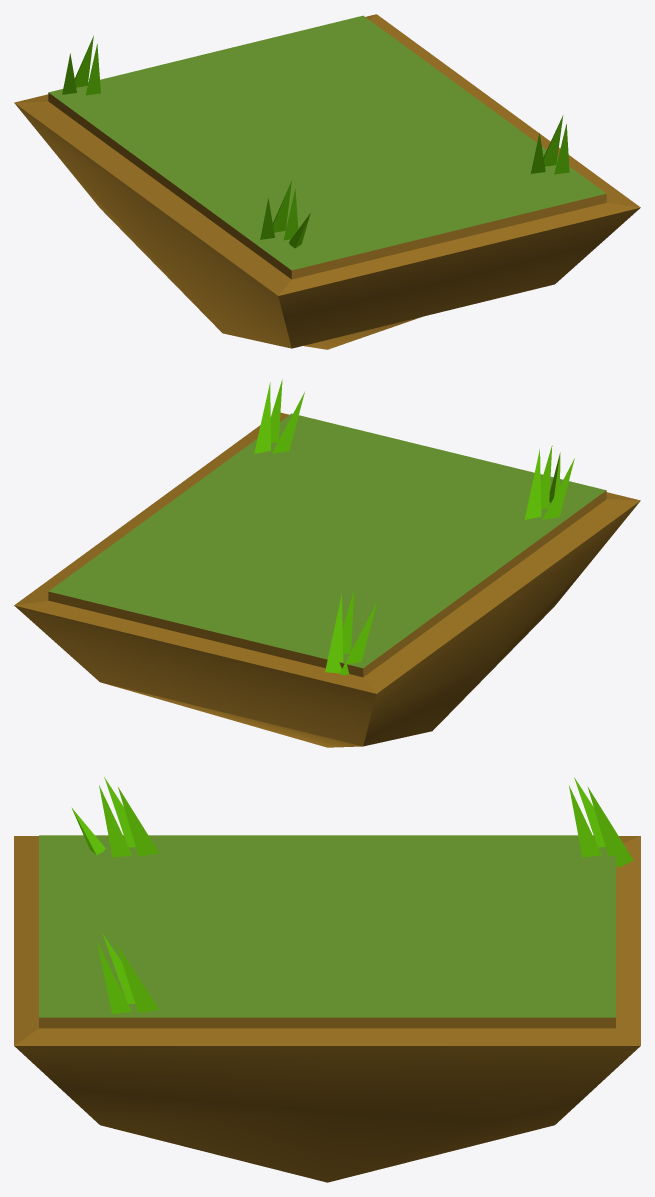
File: TINYNORMALPLATFORM.fbx
The picture shows the model from 3 angles, top to bottom: view 1: azimuth 30°, elevation 25°; view 2: azimuth 150°, elevation 25°; view 3: azimuth 270°, elevation 25°; orthographic projection. The views are drawn at different scales.
Visible parts, largest first — view 1: Platform6; view 2: Platform6; view 3: Platform6.
Boxes of the visible parts, left/top/right/bottom form: Platform6: left=14, top=14, right=640, bottom=349; Platform6: left=14, top=379, right=640, bottom=747; Platform6: left=14, top=777, right=640, bottom=1182.
Size of the model in its own units: 2.04 by 1.43 by 2.58.
